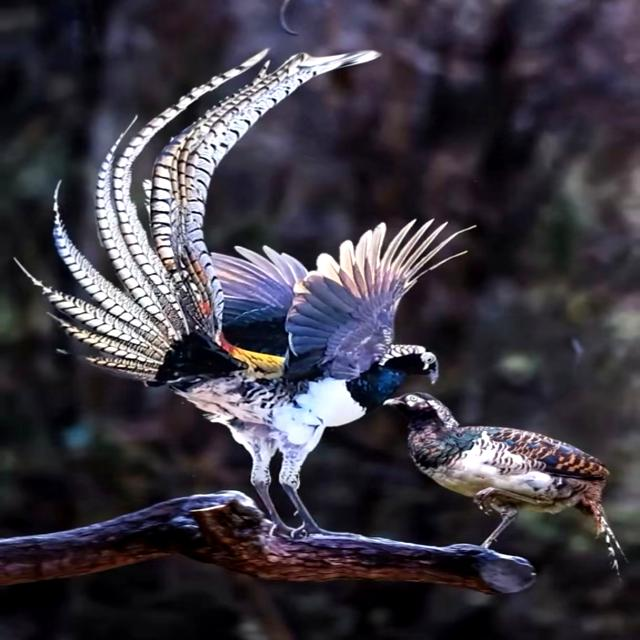Chrysolophus amherstiae: (33, 50, 378, 381)
